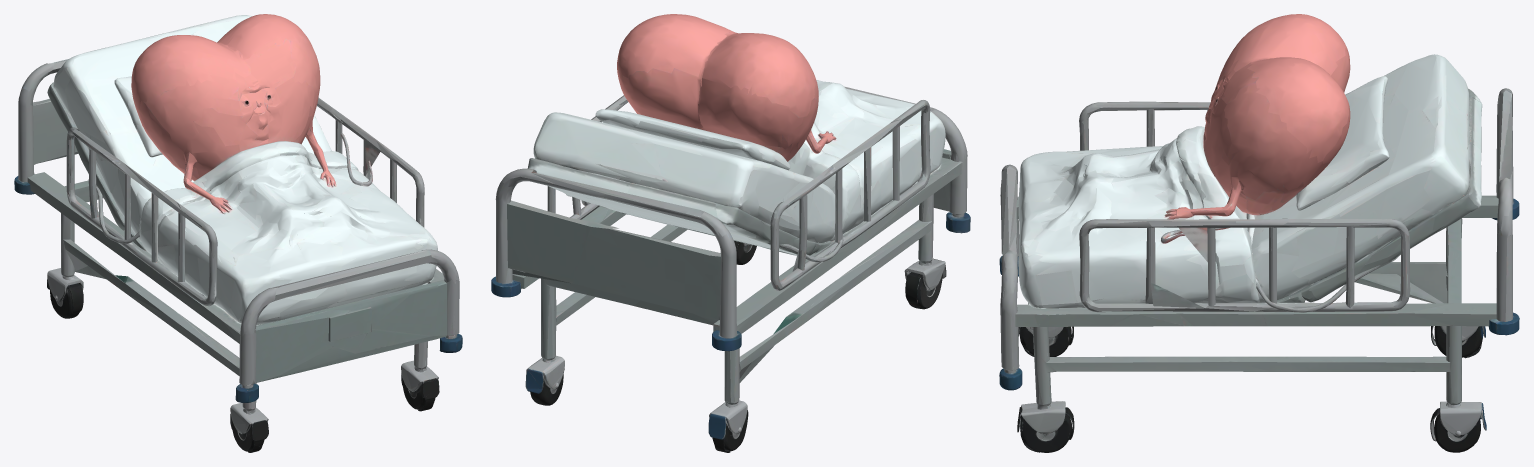
Rendered from shrimply.glb.
3 renders of one model, left to right at view 1: azimuth 30°, elevation 25°; view 2: azimuth 150°, elevation 25°; view 3: azimuth 270°, elevation 25°, orthographic. The views are drawn at different scales.
Size of the model in its own units: 1.1 by 1.46 by 1.9.
Materials: 1 (1 with a texture image).
